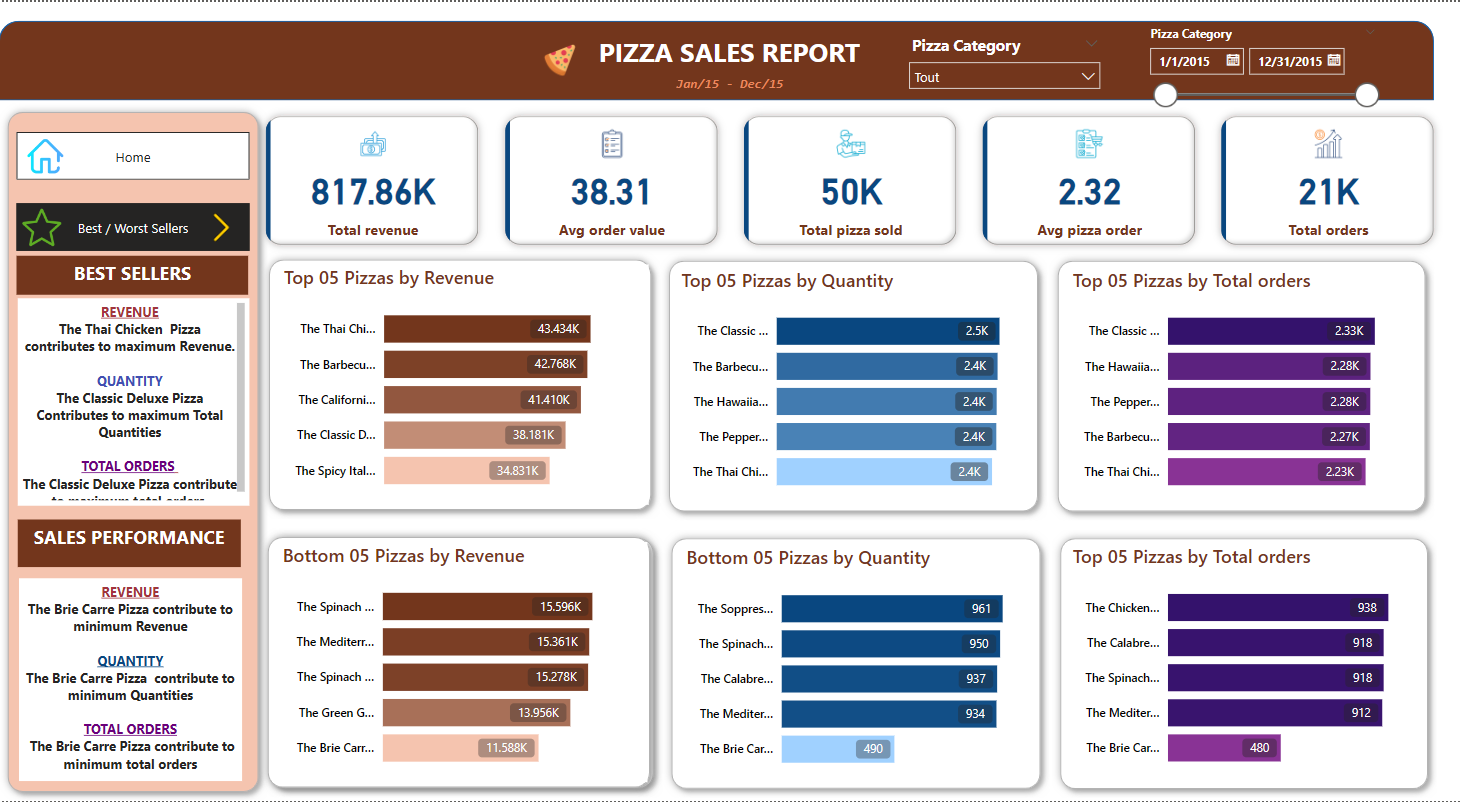

Layout of this report page (visuals, bound fields, positions):
{"tool":"powerbi","page":{"name":"Best / Worst Sellers","canvas":[1500,820],"ordinal":1},"visuals":[{"type":"cardVisual","fields":{"Data":["pizza_sales.Total revenue","pizza_sales.Avg order value","pizza_sales.Total pizza sold","pizza_sales.Avg pizza order","pizza_sales.Total orders"]},"box":[257.5,100.8,1230.5,164.9],"z":0},{"type":"textbox","box":[17.7,260.5,237.9,39.8],"z":0,"group":"g9"},{"type":"textbox","box":[19.3,530.7,228.6,48.5],"z":0,"group":"g10"},{"type":"shape","box":[0,103.6,275.3,715.4],"z":1000},{"type":"textbox","box":[19.4,303.7,237.9,212.5],"z":1000,"group":"g9"},{"type":"textbox","box":[20.4,591.2,228.6,207.9],"z":1000,"group":"g10"},{"type":"shape","box":[0,19.1,1471.7,81.8],"z":2000},{"type":"textbox","box":[600.9,28.6,295.7,45],"z":3000},{"type":"textbox","box":[684,69.5,129.5,31.3],"z":4000},{"type":"image","box":[550.5,38.2,50.4,42.2],"z":5000},{"type":"shape","box":[268.5,255.7,410.1,275],"z":5000,"group":"g6"},{"type":"shape","box":[678.6,256.5,396.4,275],"z":5000,"group":"g3"},{"type":"shape","box":[266.9,540.3,410.1,275],"z":5000,"group":"g7"},{"type":"shape","box":[270.8,541.2,410,275],"z":5000,"group":"g4"},{"type":"shape","box":[681,541.2,396.4,275],"z":5000,"group":"g5"},{"type":"shape","box":[1076.5,256.5,395.2,275.3],"z":6000},{"type":"group","id":"g1","title":"Groupe 3","box":[17.7,260.5,239.6,255.7],"z":7000},{"type":"group","id":"g2","title":"Groupe 4","box":[19.3,530.7,230,268.5],"z":8000},{"type":"slicer","fields":{"Values":["pizza_sales.pizza_category"]},"box":[922.5,28.6,216.7,62.7],"z":9000},{"type":"slicer","fields":{"Values":["pizza_sales.Order_date"]},"box":[1167.8,19.1,256.2,98.1],"z":10000},{"type":"group","id":"g3","title":"Groupe 1","box":[678.6,256.5,410.2,275.3],"z":11000},{"type":"shape","box":[1078.9,541.2,395.2,275.3],"z":12000},{"type":"group","id":"g4","title":"Groupe 1","box":[270.8,541.2,410,275],"z":13000},{"type":"group","id":"g5","title":"Groupe 1","box":[681,541.2,396.4,275],"z":14000},{"type":"group","id":"g6","title":"Groupe 2","box":[268.5,255.7,410.1,275],"z":15000},{"type":"group","id":"g7","title":"Groupe 1","box":[266.9,540.3,410.1,275],"z":16000},{"type":"barChart","title":"Top 05 Pizzas by Quantity","fields":{"Category":["pizza_sales.pizza_name"],"Y":["pizza_sales.Total pizza sold"]},"box":[694.7,271.8,360.2,244.4],"z":17000},{"type":"barChart","title":"Bottom 05 Pizzas by Quantity","fields":{"Category":["pizza_sales.pizza_name"],"Y":["pizza_sales.Total pizza sold"]},"box":[699.5,556.4,360.2,244.4],"z":18000},{"type":"barChart","title":"Top 05 Pizzas by Total orders","fields":{"Category":["pizza_sales.pizza_name"],"Y":["pizza_sales.Total orders"]},"box":[1096.7,271.8,360.2,244.4],"z":19000},{"type":"group","id":"g8","title":"Groupe 4","box":[17.7,260.5,239.6,255.7],"z":19002,"group":"g1"},{"type":"group","id":"g9","title":"Groupe 5","box":[17.7,260.5,239.6,255.7],"z":19002,"group":"g8"},{"type":"group","id":"g10","title":"Groupe 5","box":[19.3,530.7,230,268.5],"z":19002,"group":"g2"},{"type":"barChart","title":"Top 05 Pizzas by Revenue","fields":{"Category":["pizza_sales.pizza_name"],"Y":["pizza_sales.Total revenue"]},"box":[287.8,270.2,379.5,246],"z":19504,"group":"g6"},{"type":"barChart","title":"Bottom 05 Pizzas by Revenue","fields":{"Category":["pizza_sales.pizza_name"],"Y":["pizza_sales.Total revenue"]},"box":[286.2,554.8,379.5,246],"z":19504,"group":"g7"},{"type":"barChart","title":"Top 05 Pizzas by Total orders","fields":{"Category":["pizza_sales.pizza_name"],"Y":["pizza_sales.Total orders"]},"box":[1096.7,554.8,360.2,244.4],"z":20000},{"type":"pageNavigator","box":[17.7,133.5,239.6,49.9],"z":21000},{"type":"pageNavigator","box":[17.7,205.8,239.6,49.9],"z":22000},{"type":"image","box":[209,205.8,38.6,49.9],"z":23000},{"type":"image","box":[24.1,133.5,46.6,49.9],"z":24000},{"type":"image","box":[16.1,205.8,54.7,49.9],"z":25000}]}

Visuals, with their boxes in screenshot pixels (x1, y1, x2, y2), scaled from the page's 1500x820 canvas onto the 1462x802 screenshot:
cardVisual - pizza_sales.Total revenue x pizza_sales.Avg order value: box=[251, 99, 1450, 260]
textbox: box=[17, 255, 249, 294]
textbox: box=[19, 519, 242, 566]
shape: box=[0, 101, 268, 801]
textbox: box=[19, 297, 251, 505]
textbox: box=[20, 578, 243, 782]
shape: box=[0, 19, 1434, 99]
textbox: box=[586, 28, 874, 72]
textbox: box=[667, 68, 793, 99]
image: box=[537, 37, 586, 79]
shape: box=[262, 250, 661, 519]
shape: box=[661, 251, 1048, 520]
shape: box=[260, 528, 660, 797]
shape: box=[264, 529, 664, 798]
shape: box=[664, 529, 1050, 798]
shape: box=[1049, 251, 1434, 520]
"Groupe 3" group: box=[17, 255, 251, 505]
"Groupe 4" group: box=[19, 519, 243, 782]
slicer - pizza_sales.pizza_category: box=[899, 28, 1110, 89]
slicer - pizza_sales.Order_date: box=[1138, 19, 1388, 115]
"Groupe 1" group: box=[661, 251, 1061, 520]
shape: box=[1052, 529, 1437, 799]
"Groupe 1" group: box=[264, 529, 664, 798]
"Groupe 1" group: box=[664, 529, 1050, 798]
"Groupe 2" group: box=[262, 250, 661, 519]
"Groupe 1" group: box=[260, 528, 660, 797]
"Top 05 Pizzas by Quantity" barChart: box=[677, 266, 1028, 505]
"Bottom 05 Pizzas by Quantity" barChart: box=[682, 544, 1033, 783]
"Top 05 Pizzas by Total orders" barChart: box=[1069, 266, 1420, 505]
"Groupe 4" group: box=[17, 255, 251, 505]
"Groupe 5" group: box=[17, 255, 251, 505]
"Groupe 5" group: box=[19, 519, 243, 782]
"Top 05 Pizzas by Revenue" barChart: box=[281, 264, 650, 505]
"Bottom 05 Pizzas by Revenue" barChart: box=[279, 543, 649, 783]
"Top 05 Pizzas by Total orders" barChart: box=[1069, 543, 1420, 782]
pageNavigator: box=[17, 131, 251, 179]
pageNavigator: box=[17, 201, 251, 250]
image: box=[204, 201, 241, 250]
image: box=[23, 131, 69, 179]
image: box=[16, 201, 69, 250]
